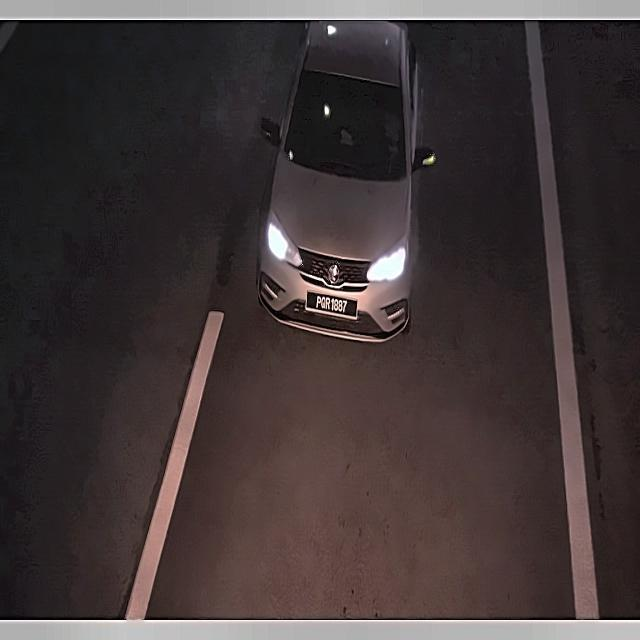car: (304, 286, 361, 322)
